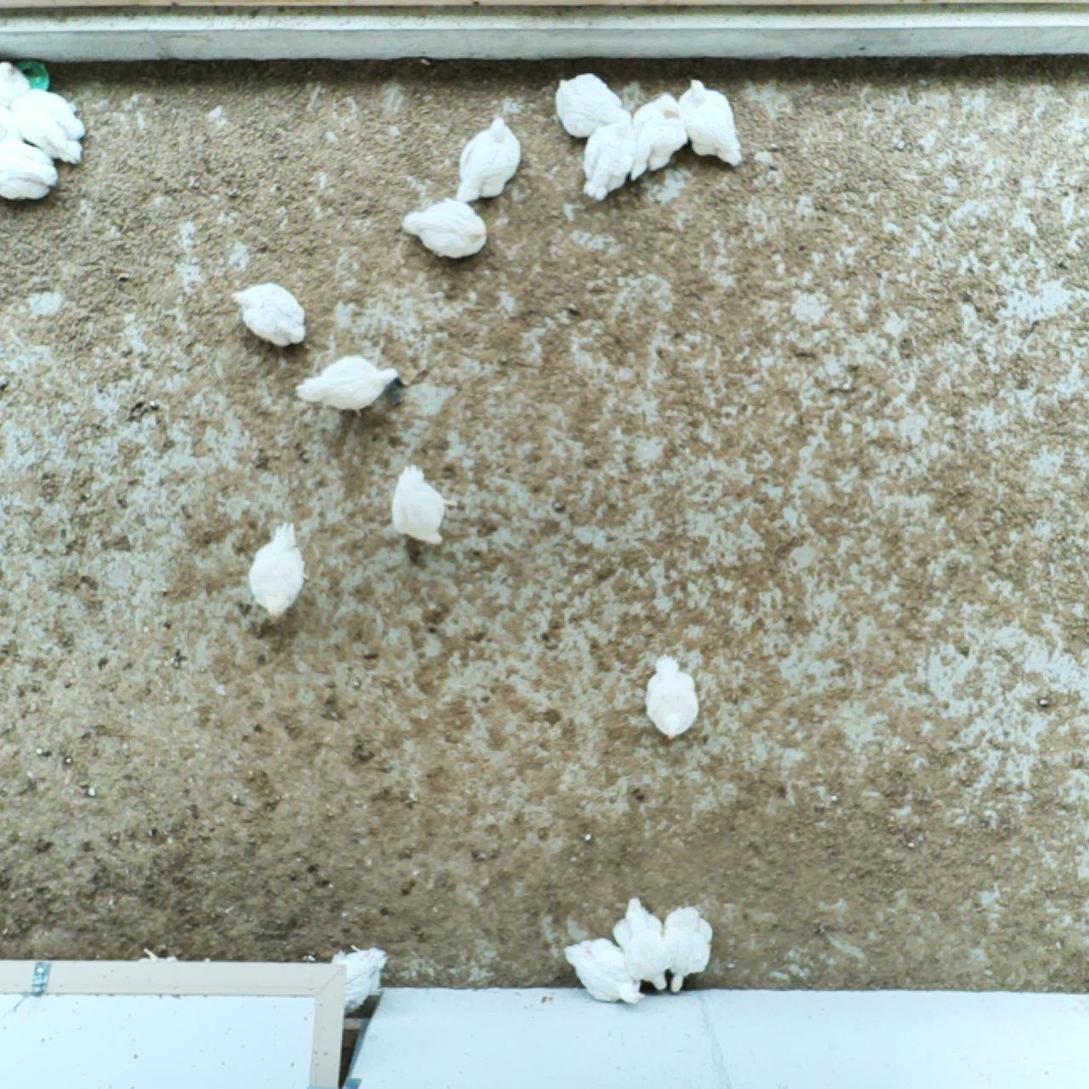chicken: (292, 351, 403, 422), (560, 931, 648, 1013), (6, 88, 94, 168), (607, 894, 672, 997), (675, 76, 746, 169), (246, 519, 311, 620), (399, 193, 489, 263), (455, 114, 525, 203), (386, 460, 456, 548), (228, 279, 309, 350), (642, 650, 703, 741), (0, 112, 60, 204), (550, 70, 627, 141), (579, 116, 636, 205), (631, 90, 690, 173), (665, 904, 716, 995), (331, 941, 391, 1018), (0, 60, 31, 107)
